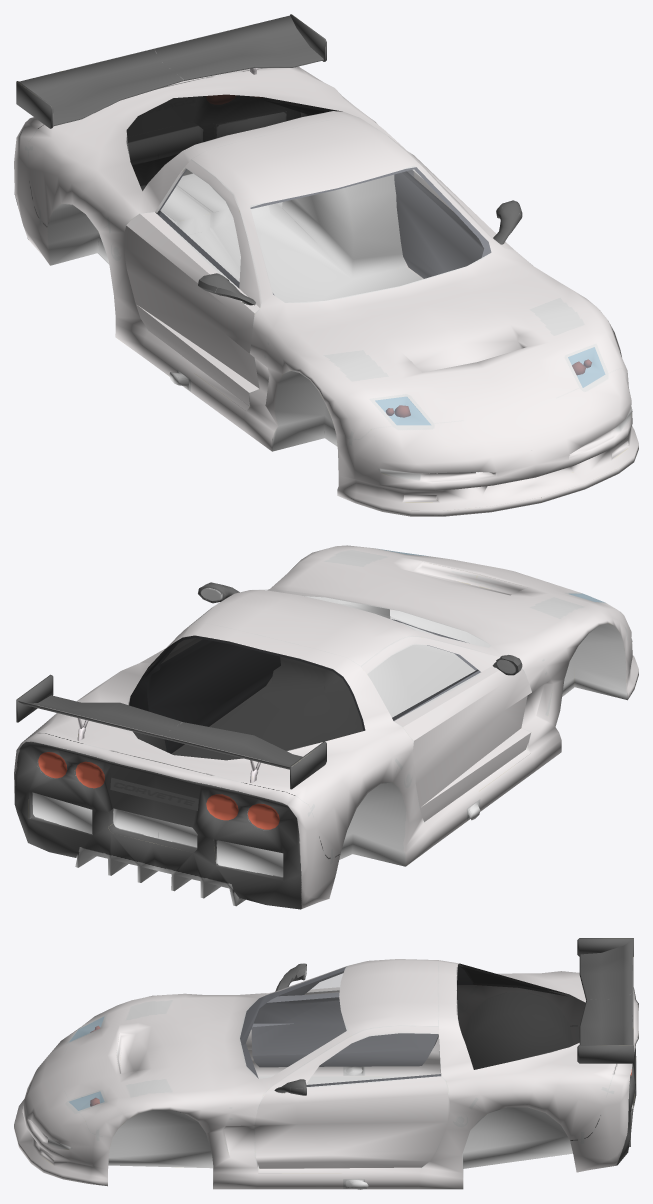
File: Corvette.fbx
3 views of the same model, one above another, from view 1: azimuth 30°, elevation 25°; view 2: azimuth 150°, elevation 25°; view 3: azimuth 270°, elevation 25° (orthographic). The views are drawn at different scales.
Visible parts, largest first — view 1: Plane.013; view 2: Plane.013; view 3: Plane.013.
Boxes of the visible parts, <box> form: Plane.013: <box>14,14,638,516</box>; Plane.013: <box>14,545,638,909</box>; Plane.013: <box>14,938,638,1189</box>.
Size of the model in its own units: 269 by 146 by 567.
